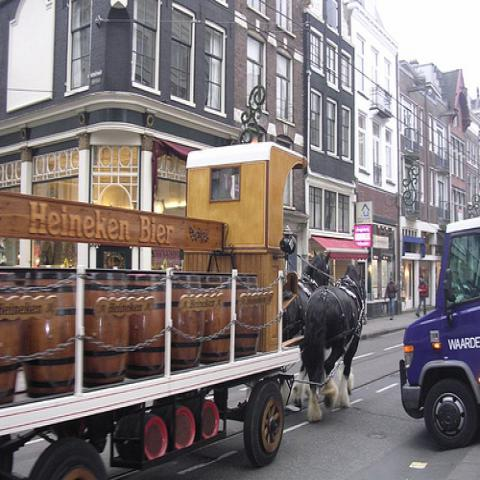truck: (0, 148, 314, 472), (397, 212, 479, 452)
